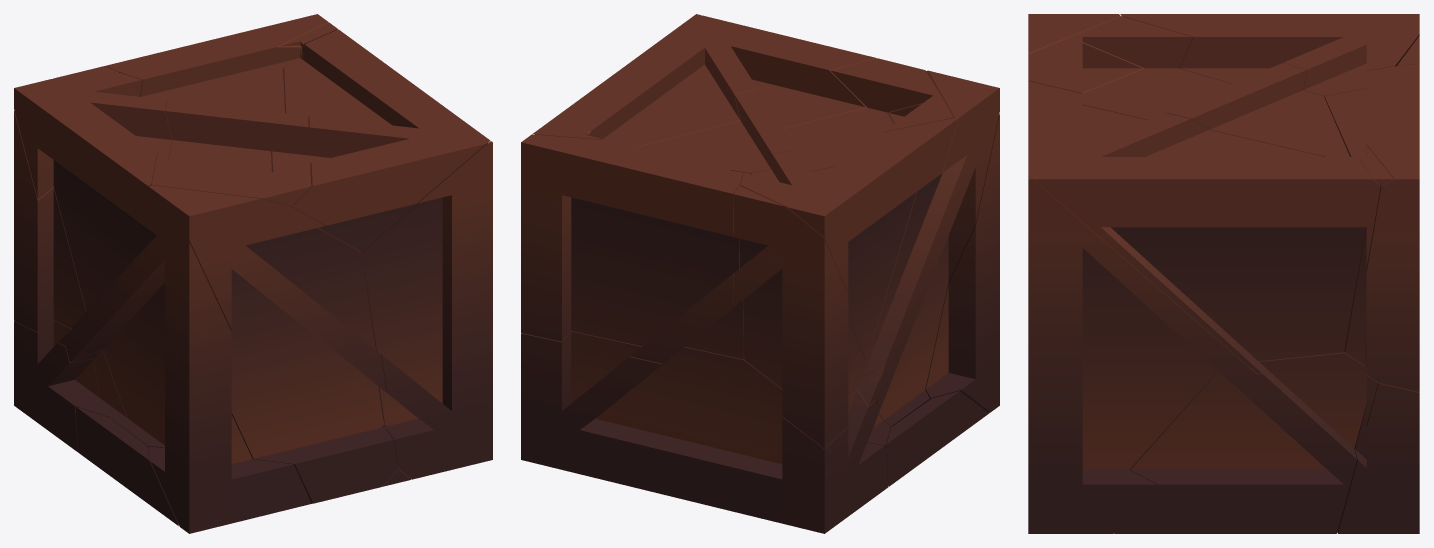
File: WRLD_FBX_CRATE_CRUSHED.fbx
3 renders of one model, left to right at view 1: azimuth 30°, elevation 25°; view 2: azimuth 150°, elevation 25°; view 3: azimuth 270°, elevation 25°, orthographic. The views are drawn at different scales.
Visible parts, largest first — view 1: Cube.015_cell.005, Cube.015_cell.009, Cube.015_cell.008, Cube.015_cell, Cube.015_cell.002, Cube.015_cell.001, Cube.015_cell.010, Cube.015_cell.007, Cube.015_cell.006, Cube.015_cell.003, Cube.015_cell.004; view 2: Cube.015_cell.006, Cube.015_cell.007, Cube.015_cell.008, Cube.015_cell.010, Cube.015_cell.005, Cube.015_cell, Cube.015_cell.001, Cube.015_cell.002, Cube.015_cell.003; view 3: Cube.015_cell.008, Cube.015_cell.009, Cube.015_cell.004, Cube.015_cell.001, Cube.015_cell.007, Cube.015_cell, Cube.015_cell.006, Cube.015_cell.005, Cube.015_cell.011.
Boxes of the visible parts, <box> form: Cube.015_cell.005: <box>66,185,397,503</box>; Cube.015_cell.009: <box>361,141,492,479</box>; Cube.015_cell.008: <box>271,29,490,252</box>; Cube.015_cell: <box>14,73,172,311</box>; Cube.015_cell.002: <box>148,242,311,533</box>; Cube.015_cell.001: <box>152,68,311,206</box>; Cube.015_cell.010: <box>14,66,119,345</box>; Cube.015_cell.007: <box>106,14,328,102</box>; Cube.015_cell.006: <box>14,320,99,451</box>; Cube.015_cell.003: <box>76,407,178,525</box>; Cube.015_cell.004: <box>70,350,411,486</box>; Cube.015_cell.006: <box>521,331,888,533</box>; Cube.015_cell.007: <box>521,134,750,363</box>; Cube.015_cell.008: <box>542,15,876,147</box>; Cube.015_cell.010: <box>733,186,881,448</box>; Cube.015_cell.005: <box>862,70,999,427</box>; Cube.015_cell: <box>740,118,958,359</box>; Cube.015_cell.001: <box>637,58,953,173</box>; Cube.015_cell.002: <box>925,114,999,412</box>; Cube.015_cell.003: <box>886,391,989,486</box>; Cube.015_cell.008: <box>1028,81,1380,373</box>; Cube.015_cell.009: <box>1028,177,1255,533</box>; Cube.015_cell.004: <box>1114,351,1377,533</box>; Cube.015_cell.001: <box>1028,16,1349,156</box>; Cube.015_cell.007: <box>1324,64,1419,391</box>; Cube.015_cell: <box>1120,14,1419,96</box>; Cube.015_cell.006: <box>1337,382,1419,533</box>; Cube.015_cell.005: <box>1028,14,1144,93</box>; Cube.015_cell.011: <box>1360,146,1393,185</box>.
Bounding box in the file's own units: 85.6 × 85.6 × 85.6.
